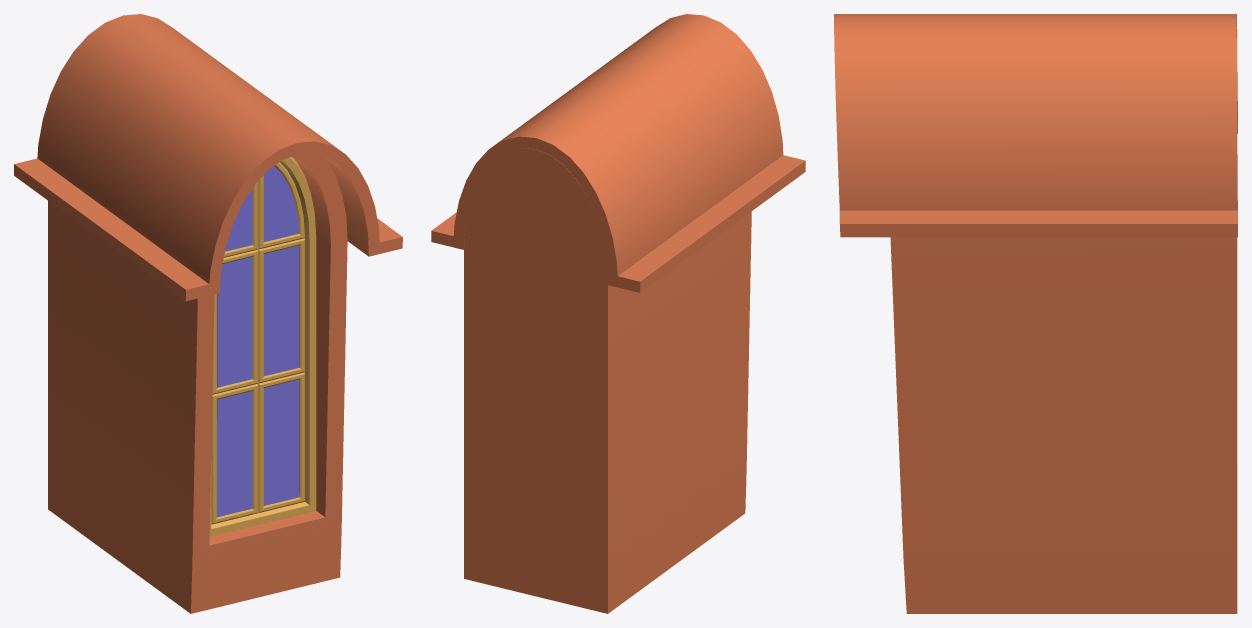
The model's file is SP_House10_Roof01.fbx.
3 views of the same model, side by side, from view 1: azimuth 30°, elevation 25°; view 2: azimuth 150°, elevation 25°; view 3: azimuth 270°, elevation 25° (orthographic). The views are drawn at different scales.
Parts seen in each view (by area): view 1: SP_House10_Roof01; view 2: SP_House10_Roof01; view 3: SP_House10_Roof01.
Part boxes in pixels (x1,y1,x2,y2): SP_House10_Roof01: (14, 14, 402, 613); SP_House10_Roof01: (431, 14, 805, 613); SP_House10_Roof01: (834, 14, 1237, 613).
Bounding box in the file's own units: 1.22 × 2.56 × 1.7.
